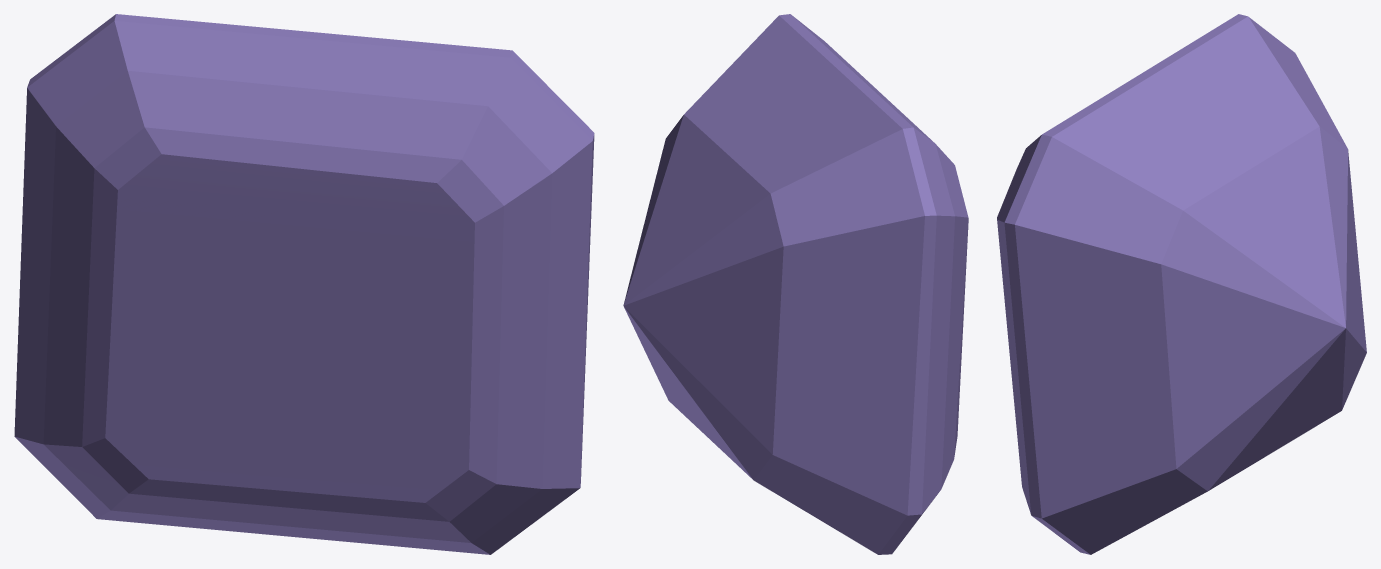
Rendered from BL3_8shapes_Square_Classic_Stone.001 3.glb.
3 renders of one model, left to right at view 1: azimuth 30°, elevation 25°; view 2: azimuth 150°, elevation 25°; view 3: azimuth 270°, elevation 25°, orthographic. The views are drawn at different scales.
Parts seen in each view (by area): view 1: BL3_8shapes_Square_Classic_Stone.001; view 2: BL3_8shapes_Square_Classic_Stone.001; view 3: BL3_8shapes_Square_Classic_Stone.001.
Part boxes in pixels (x1,y1,x2,y2): BL3_8shapes_Square_Classic_Stone.001: (14,14,594,554); BL3_8shapes_Square_Classic_Stone.001: (623,14,968,554); BL3_8shapes_Square_Classic_Stone.001: (997,14,1366,554).
Size of the model in its own units: 0.3748 by 0.4551 by 0.3555.
